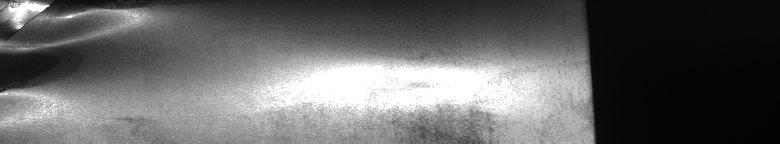ke: (4, 4, 175, 96)
